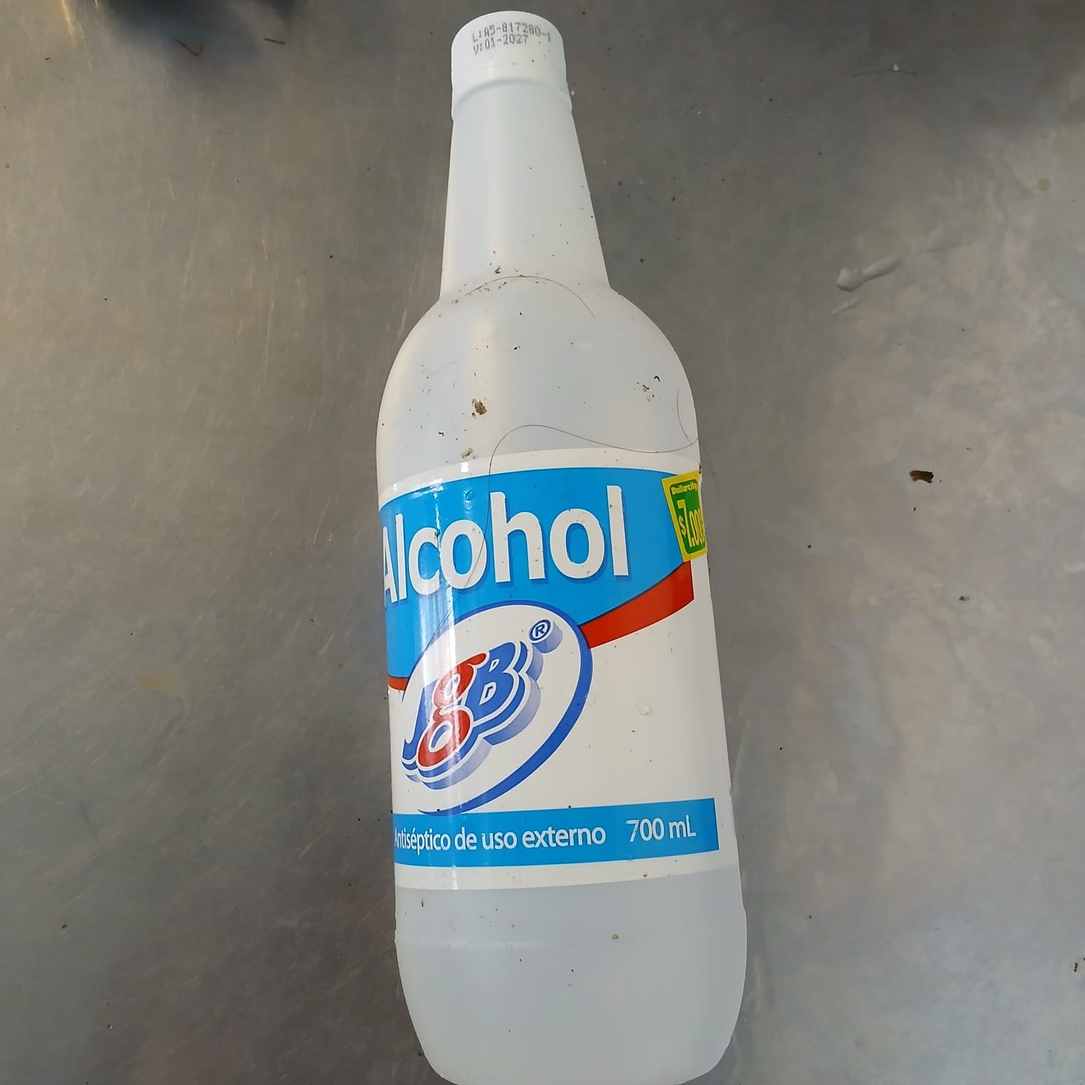Plastico: (378, 12, 749, 1085)
